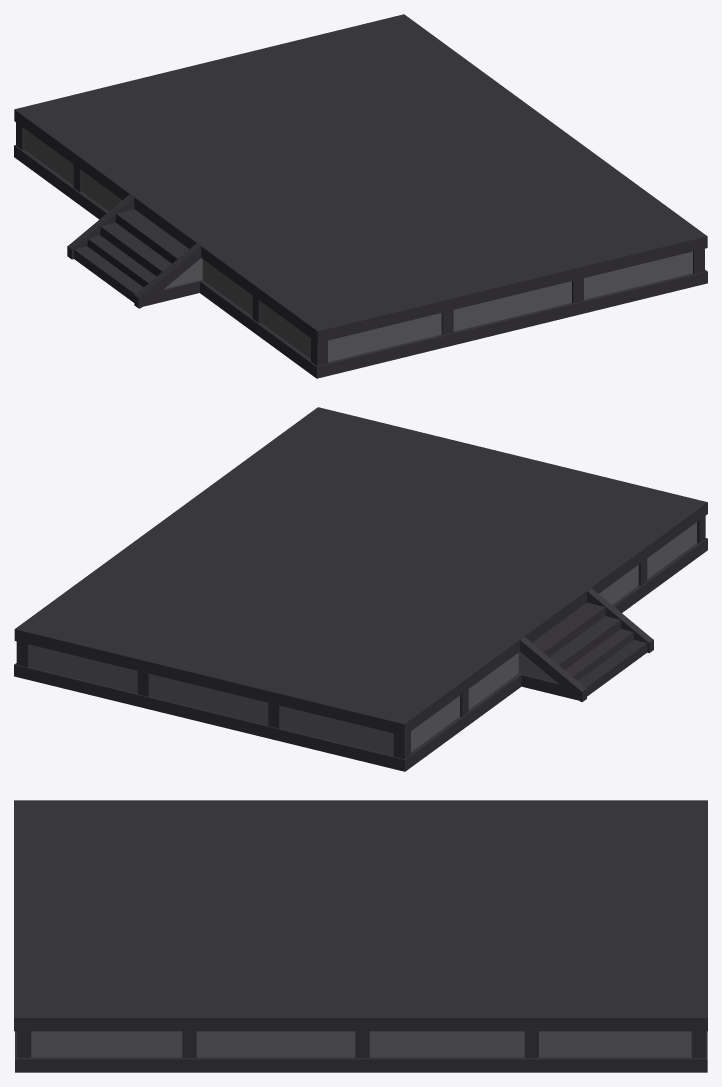
Rendered from foundation3.fbx.
The picture shows the model from 3 angles, top to bottom: view 1: azimuth 30°, elevation 25°; view 2: azimuth 150°, elevation 25°; view 3: azimuth 270°, elevation 25°; orthographic projection. The views are drawn at different scales.
Parts seen in each view (by area): view 1: foundation3; view 2: foundation3; view 3: foundation3.
Boxes of the visible parts, x1,y1,x2,y2 form: foundation3: (14,14,707,378); foundation3: (14,407,707,771); foundation3: (14,800,707,1072).
Size of the model in its own units: 2386 by 239 by 2767.
